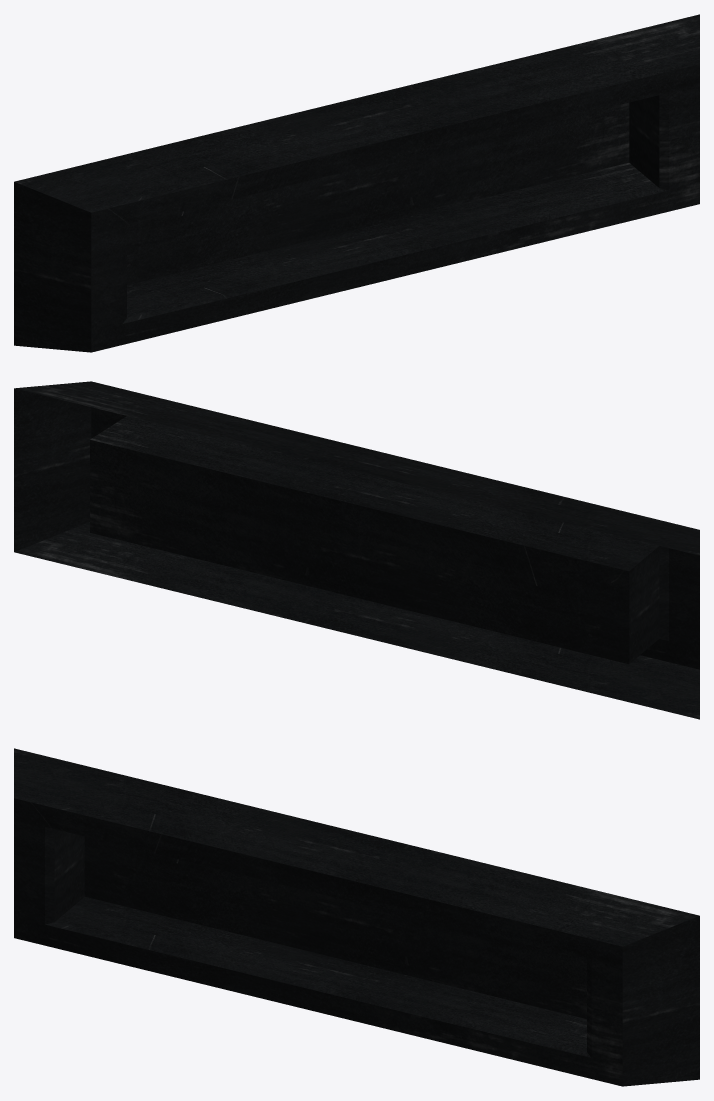
Rendered from fuse_slot.fbx.
3 views of the same model, one above another, from view 1: azimuth 30°, elevation 25°; view 2: azimuth 150°, elevation 25°; view 3: azimuth 330°, elevation 25° (orthographic).
Parts seen in each view (by area): view 1: module.007; view 2: module.007; view 3: module.007.
Part boxes in pixels (x1=…): module.007: x1=14, y1=14, x2=699, y2=352; module.007: x1=14, y1=381, x2=699, y2=719; module.007: x1=14, y1=748, x2=699, y2=1086.
Bounding box in the file's own units: 27.33 × 6.24 × 2.68.
